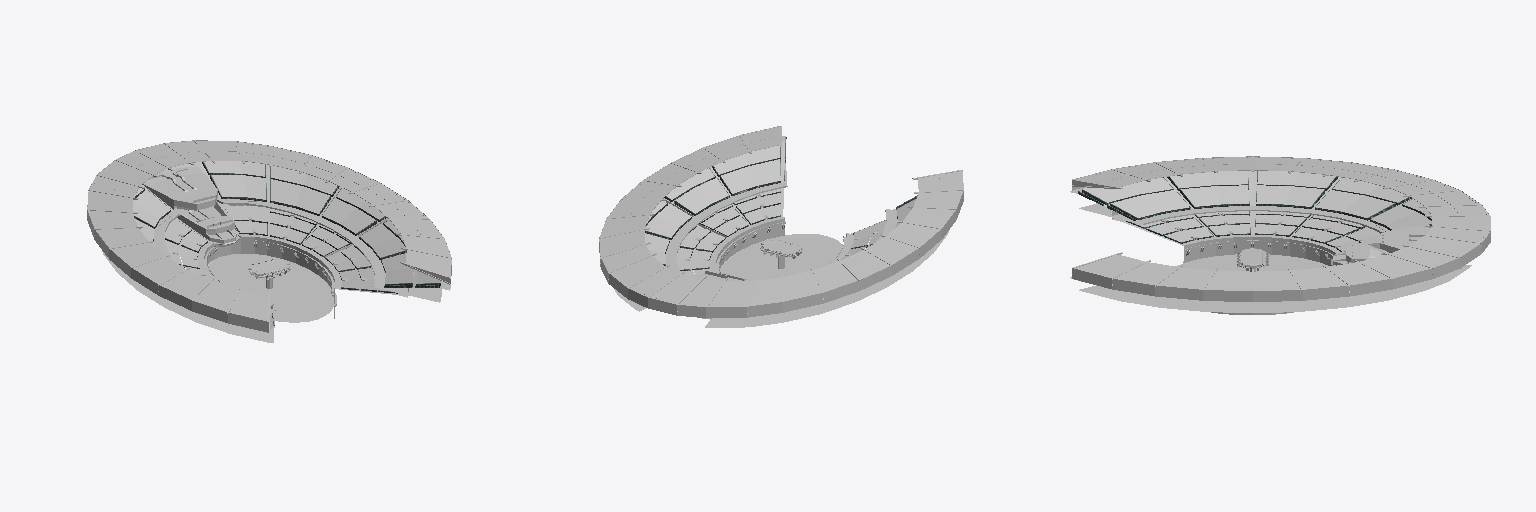
3 renders of one model, left to right at view 1: azimuth 30°, elevation 25°; view 2: azimuth 150°, elevation 25°; view 3: azimuth 270°, elevation 25°, orthographic.
Parts seen in each view (by area): view 1: Object.15, Object.17, Object.30, Object.9, Object.2, Object.24, Object.14, Object.1, Object.8, Object.13, Object.29, Object.11; view 2: Object.17, Object.15, Object.30, Object.1, Object.2, Object.9, Object.8, Object.14, Object.13; view 3: Object.15, Object.17, Object.30, Object.1, Object.2, Object.14, Object.8, Object.9, Object.24, Object.13, Object.29.
Boxes of the visible parts, <box> form: Object.15: <box>133,161,440,290</box>; Object.17: <box>89,142,449,320</box>; Object.30: <box>102,175,450,342</box>; Object.9: <box>208,254,334,322</box>; Object.2: <box>87,141,451,321</box>; Object.24: <box>144,163,272,288</box>; Object.14: <box>134,162,440,325</box>; Object.1: <box>87,140,451,332</box>; Object.8: <box>87,140,451,328</box>; Object.13: <box>160,198,378,310</box>; Object.29: <box>141,162,440,328</box>; Object.11: <box>142,184,236,240</box>; Object.17: <box>601,127,961,305</box>; Object.15: <box>645,145,915,275</box>; Object.30: <box>614,136,948,327</box>; Object.1: <box>599,126,963,317</box>; Object.2: <box>599,126,963,306</box>; Object.9: <box>720,234,842,280</box>; Object.8: <box>599,126,963,313</box>; Object.14: <box>645,137,917,270</box>; Object.13: <box>672,184,890,272</box>; Object.15: <box>1083,171,1431,251</box>; Object.17: <box>1077,157,1487,290</box>; Object.30: <box>1070,170,1471,314</box>; Object.1: <box>1072,156,1490,301</box>; Object.2: <box>1074,157,1490,290</box>; Object.14: <box>1078,171,1431,251</box>; Object.8: <box>1072,156,1490,292</box>; Object.9: <box>1175,254,1329,271</box>; Object.24: <box>1250,226,1429,271</box>; Object.13: <box>1140,208,1384,253</box>; Object.29: <box>1104,171,1410,243</box>.
Size of the model in its own units: 16.86 by 4.15 by 22.29.
Materials: 29 (1 with a texture image).